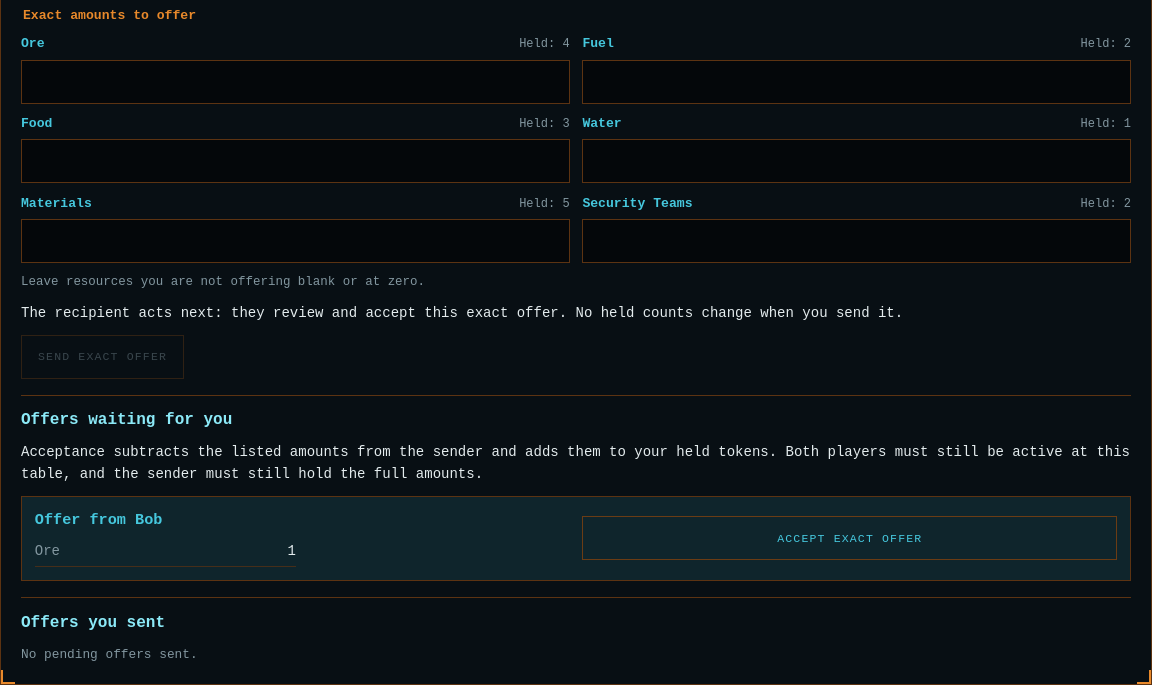
it: accepts the exact incoming offer and refreshes only this player’s returned balance
(page scrolled)
Click the button with aria-label "Accept exact offer from Bob": point(850, 538) [582,516,1117,560]
(page scrolled)
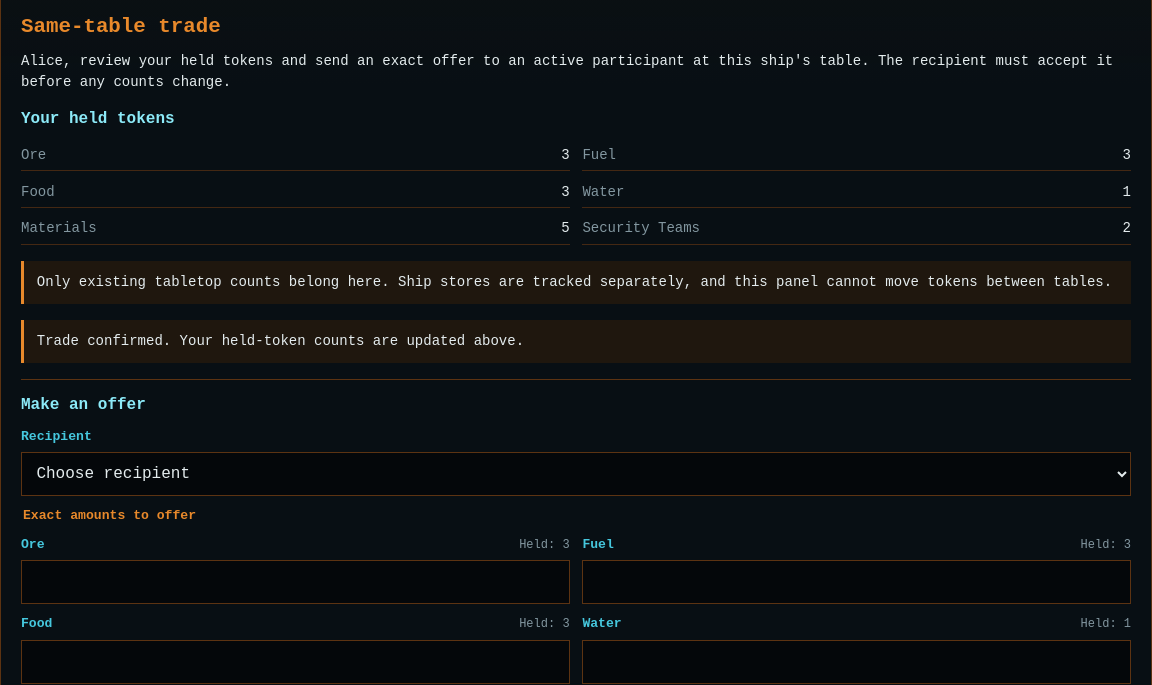
expect the text "Only existing tabletop counts belong here" is shown: met, box [37,274,1112,290]
expect the message shows "Trade confirmed": met, box [37,333,524,349]
expect the element labelled "Your held tokens" reads "Your held tokens Ore 3 Fuel 3 Food 3 Water 1 Materials 5 Security Teams 2": met, box [21,108,1131,244]
